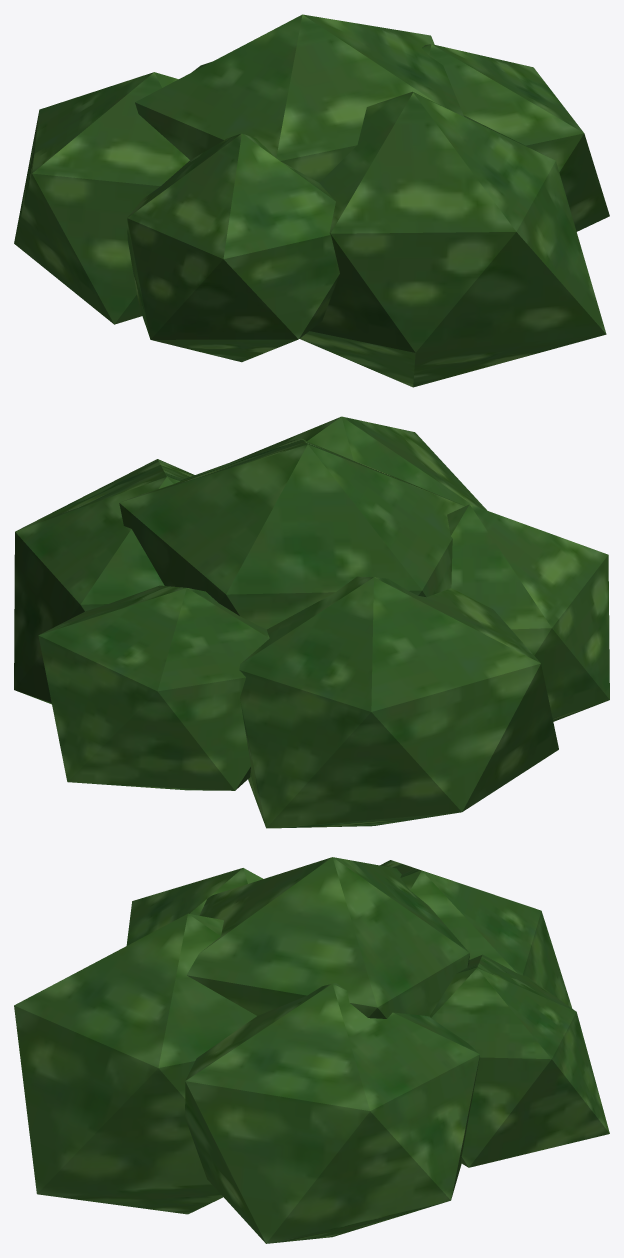
The model's file is bush_b.glb.
3 views of the same model, one above another, from view 1: azimuth 30°, elevation 25°; view 2: azimuth 150°, elevation 25°; view 3: azimuth 270°, elevation 25° (orthographic). The views are drawn at different scales.
Visible parts, largest first — view 1: Bush_B; view 2: Bush_B; view 3: Bush_B.
Part boxes in pixels (bbox=[...]): Bush_B: bbox=[14, 14, 609, 387]; Bush_B: bbox=[14, 416, 609, 828]; Bush_B: bbox=[14, 857, 609, 1243].
Size of the model in its own units: 1.2 by 0.7353 by 1.18.
Materials: 1 (1 with a texture image).
